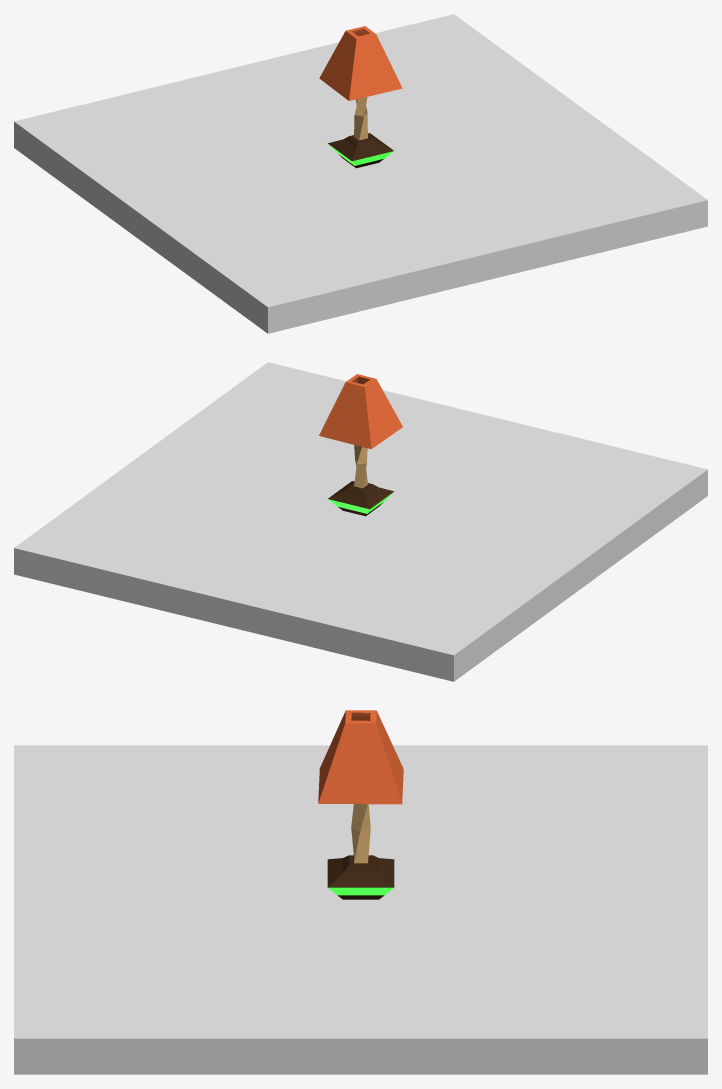
The model's file is lamp3.glb.
The picture shows the model from 3 angles, top to bottom: view 1: azimuth 30°, elevation 25°; view 2: azimuth 150°, elevation 25°; view 3: azimuth 270°, elevation 25°; orthographic projection. The views are drawn at different scales.
Parts seen in each view (by area): view 1: Cube; view 2: Cube; view 3: Cube.
Part boxes in pixels (box(x1,y1,x2,y2)): Cube: box(14, 14, 707, 333); Cube: box(14, 362, 707, 681); Cube: box(14, 710, 707, 1074).
Size of the model in its own units: 39.23 by 13.18 by 39.23.
Materials: 1 (1 with a texture image).
